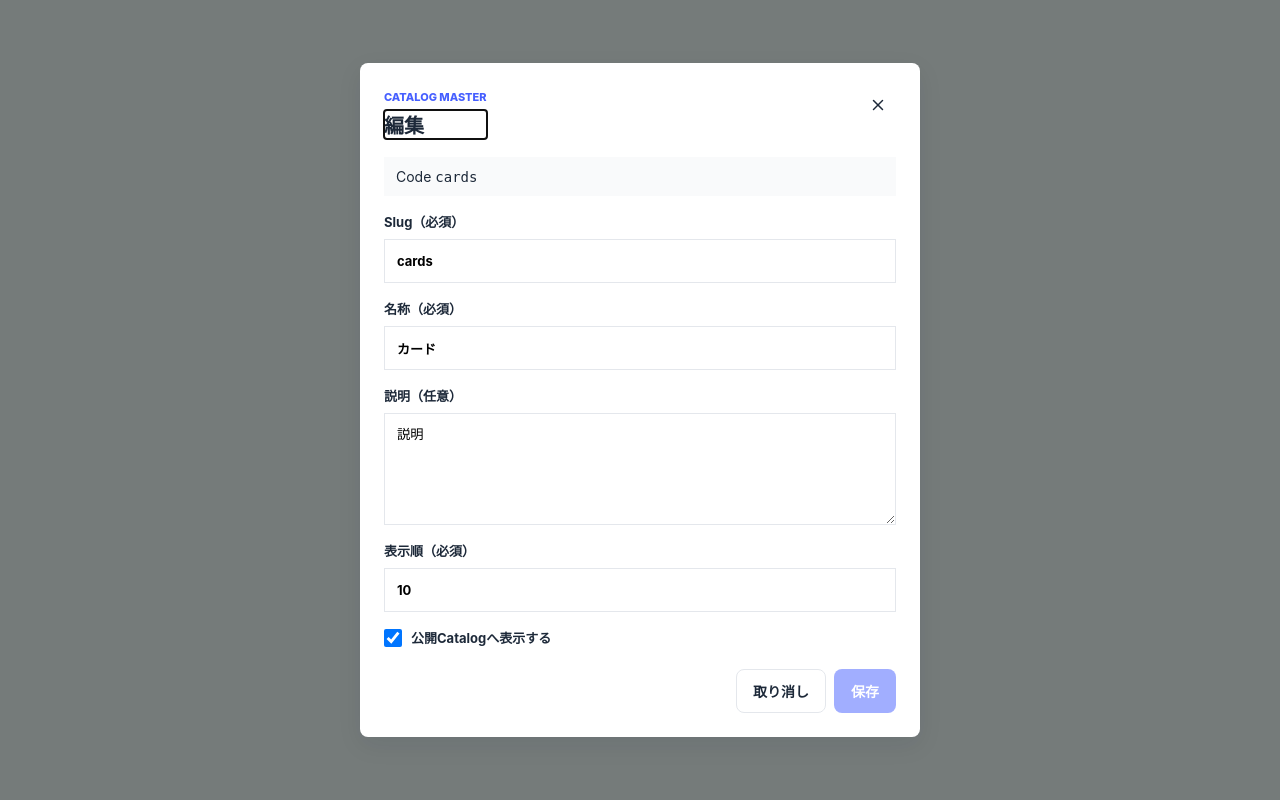
Test: Admin Catalog read components › shows server validation feedback without a revision-conflict message
Replace the text in the field labelled "名称" with "更新後カード": (640,348) x1=384 y1=326 x2=896 y2=370
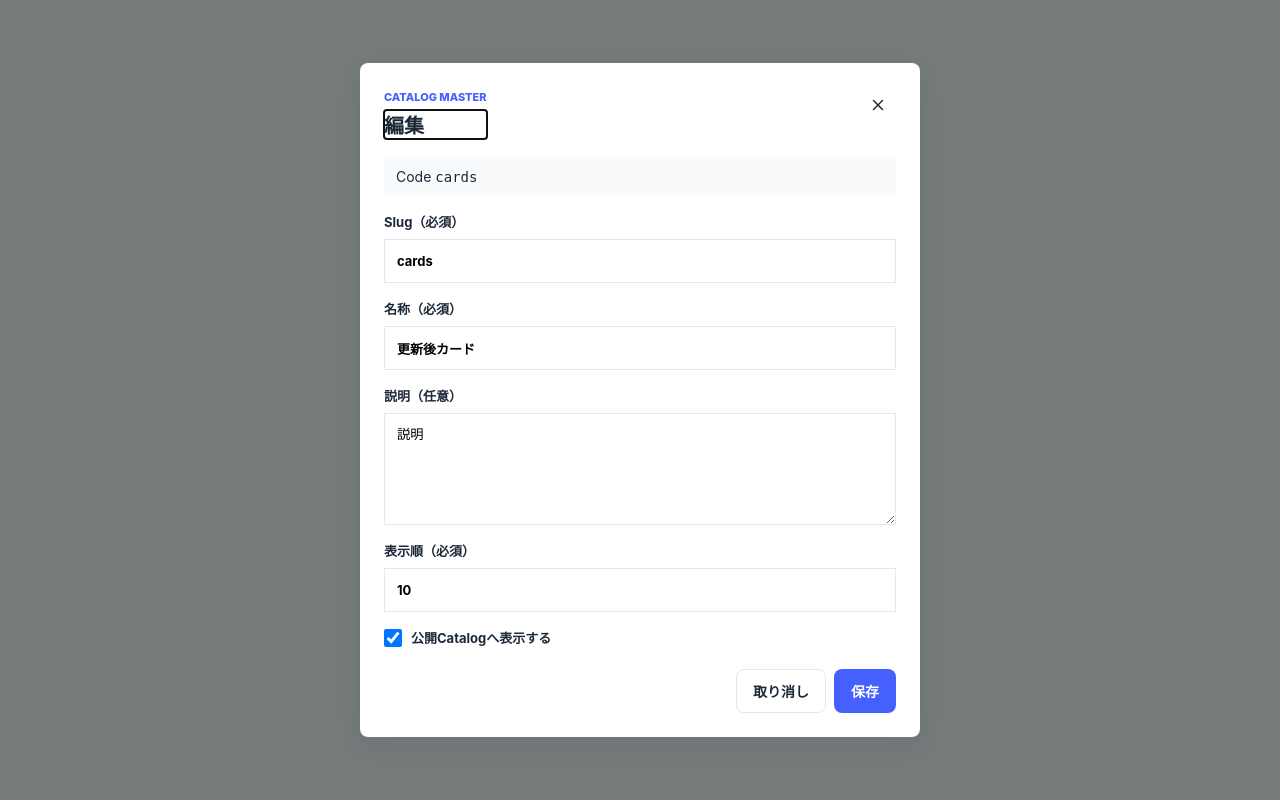
Click the button "保存": (865,691) x1=834 y1=669 x2=896 y2=713
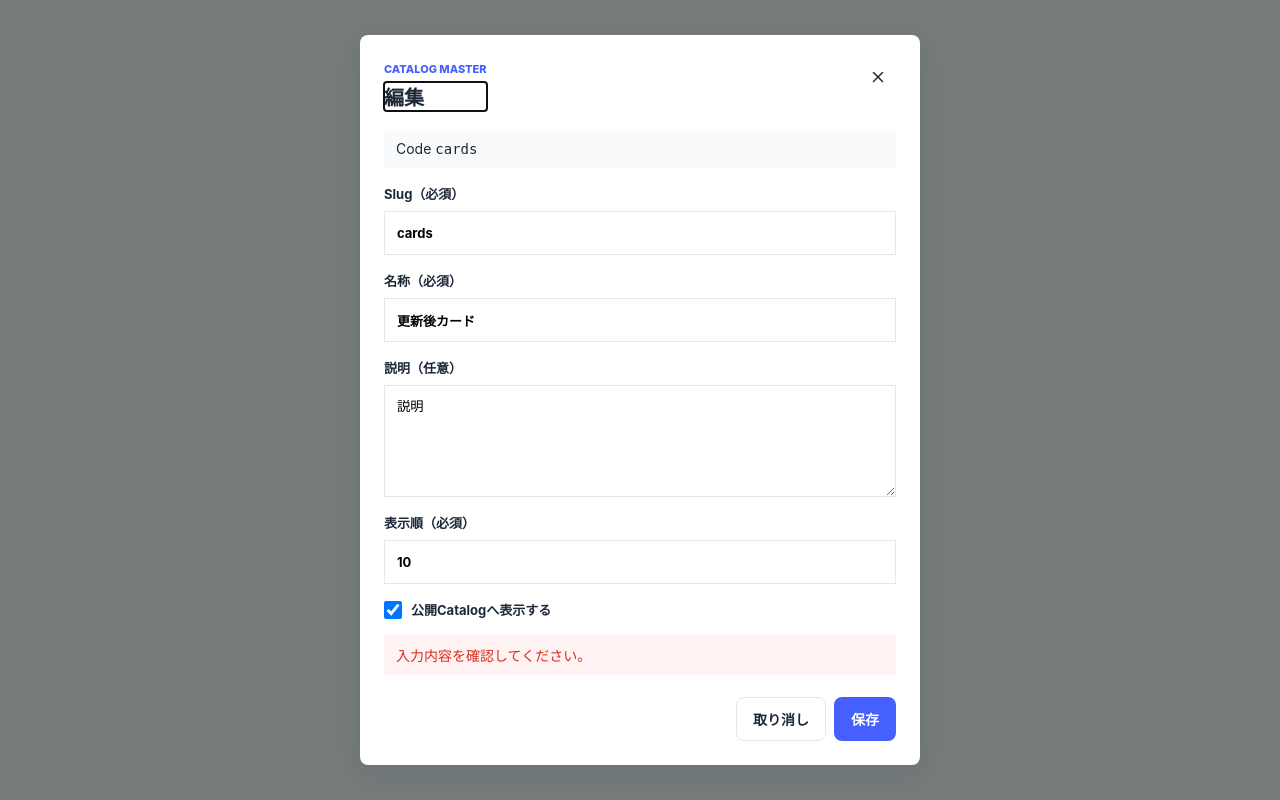
Result: the text "入力内容を確認してください。" is shown at x1=384 y1=635 x2=896 y2=675
